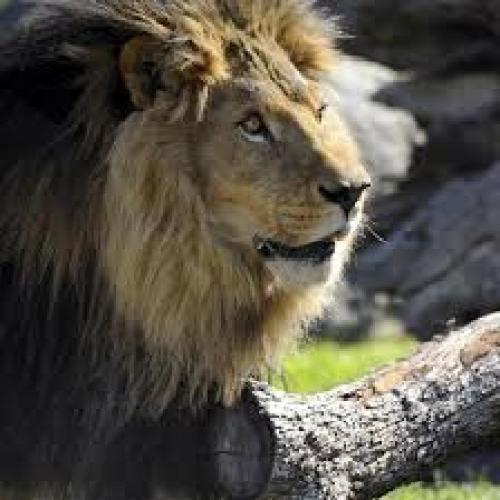lion-endangered: (0, 0, 372, 452)
